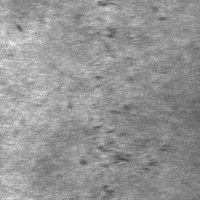rolled-in_scale: (80, 102, 168, 189), (95, 25, 148, 92)
